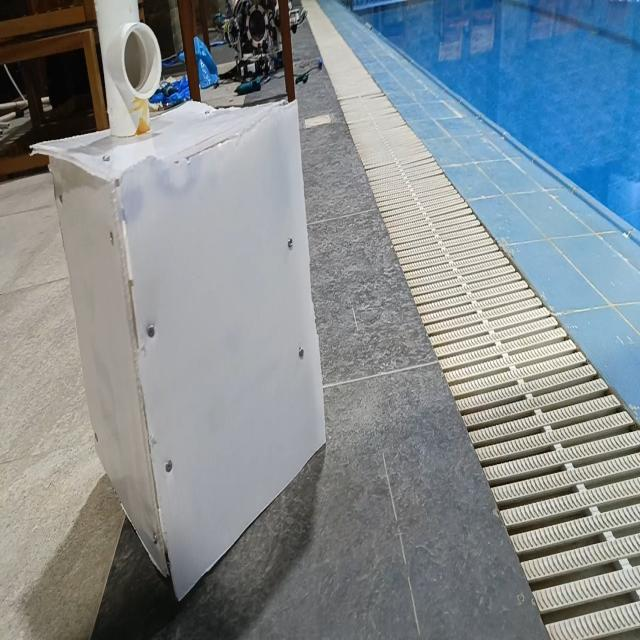Cube: (30, 94, 328, 602)
